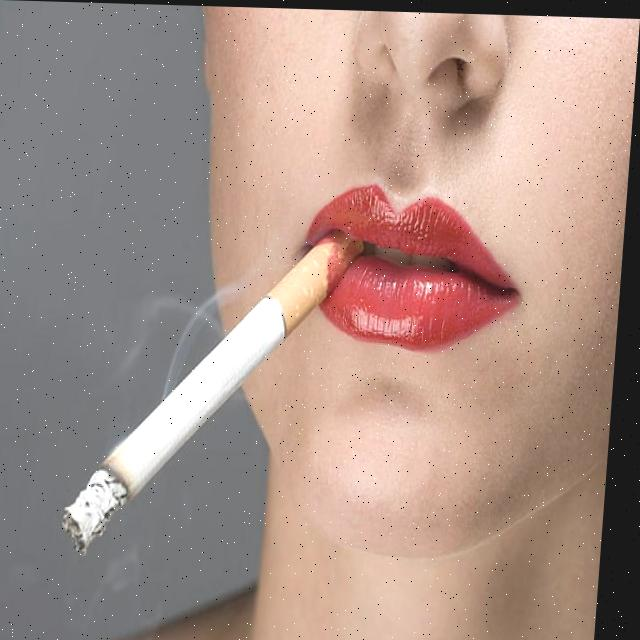cigarette: (66, 221, 369, 558)
